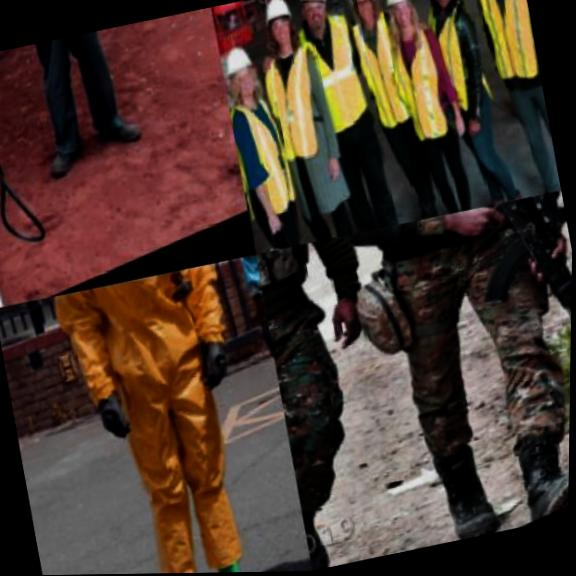safety_vest: (44, 253, 313, 575), (372, 194, 558, 298), (223, 77, 320, 236), (289, 4, 389, 152), (253, 35, 349, 177), (378, 21, 472, 163), (344, 7, 433, 146), (418, 0, 504, 132), (462, 0, 546, 110), (222, 75, 268, 213)
